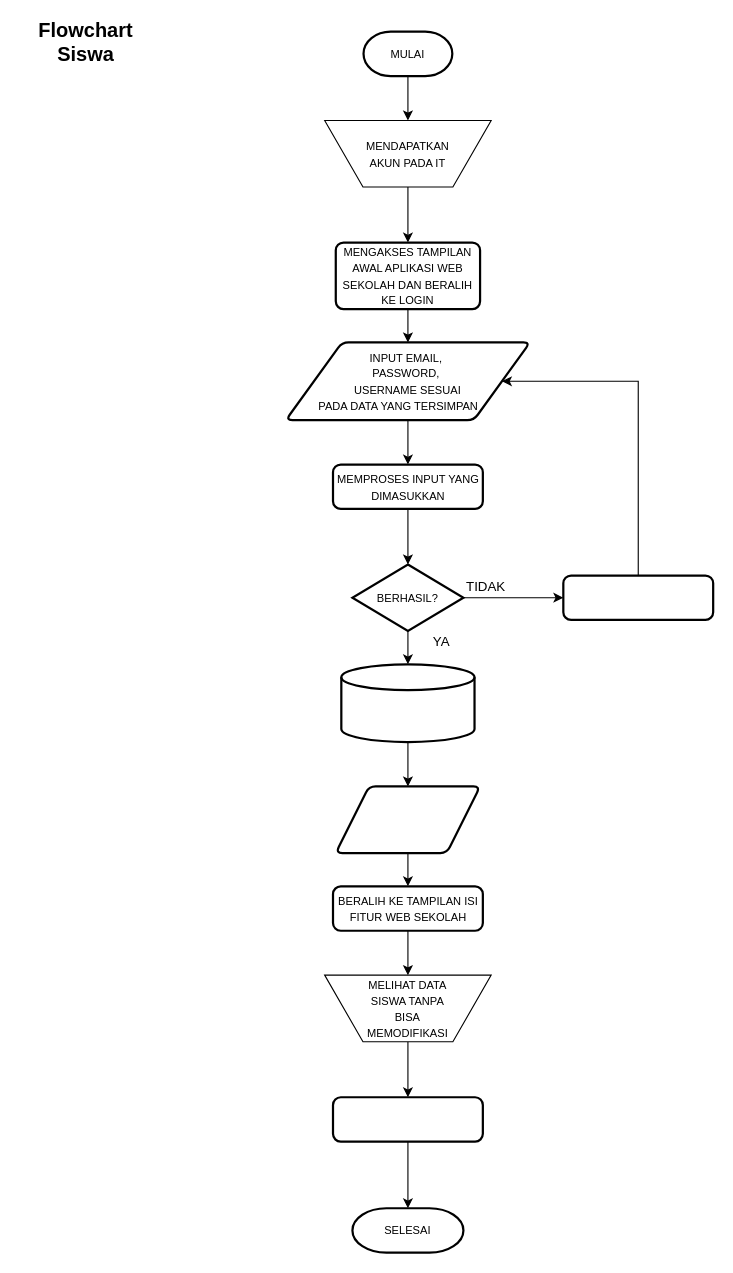
The diagram is 733 pixels wide and 1273 high, and some of its shapes have lost their labels. The centre of each missing label's shape, as x and y in pixels:
"BERHASIL MENGAMBIL DATA DARI DATABASE" goes at (407,703).
"DATA TAK SESUAI DENGAN DATABASE" goes at (638,597).
"LOG OUT" goes at (407,1119).
"LOGIN BERHASIL" goes at (407,819).
